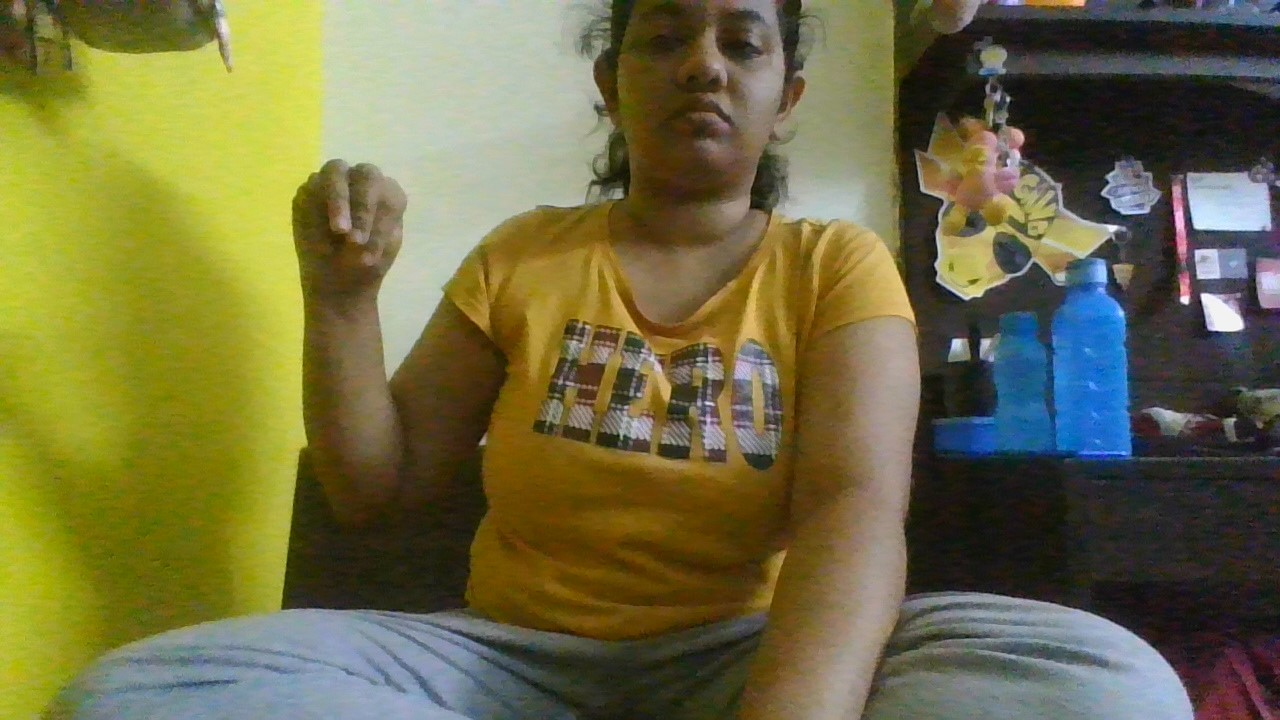m: (267, 154, 420, 319)
